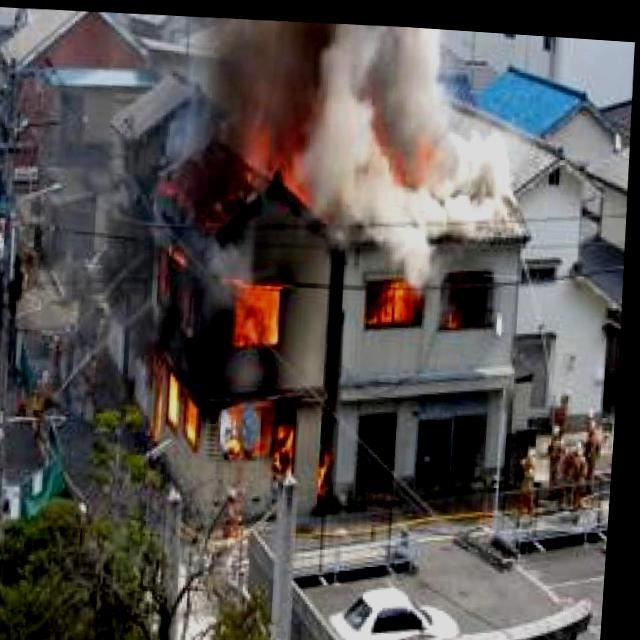Fire: (138, 98, 356, 537), (370, 270, 424, 327)
Smoke: (337, 18, 512, 234), (189, 10, 355, 159)
